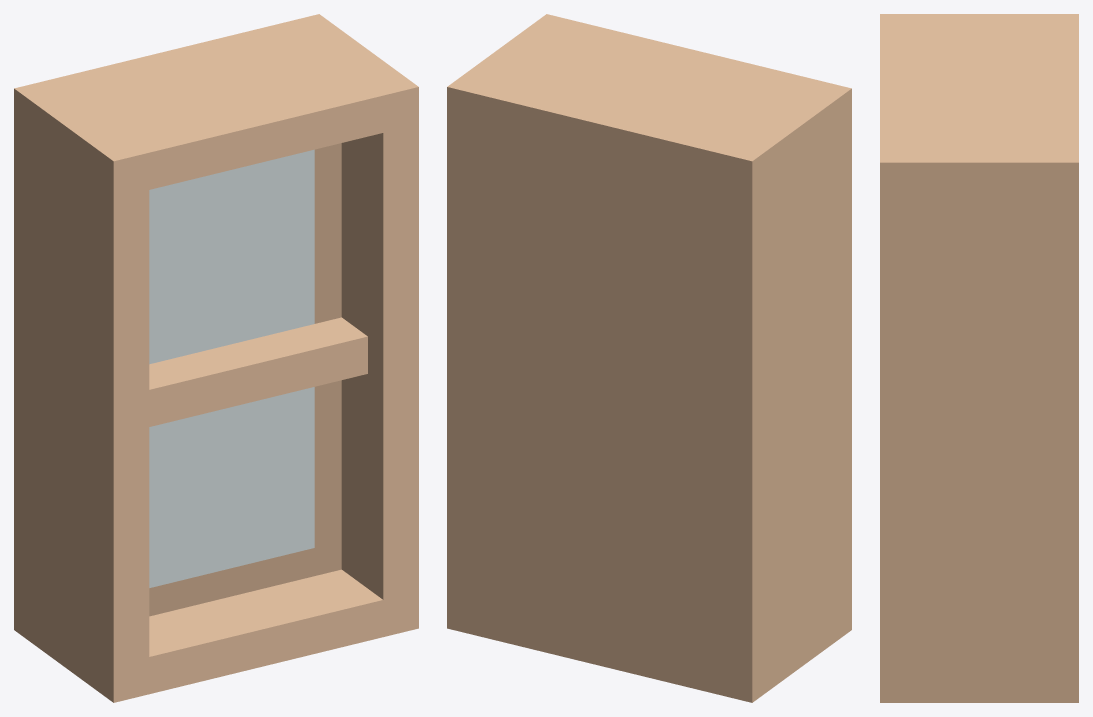
File: bathroomCabinet.glb
The picture shows the model from 3 angles, left to right: view 1: azimuth 30°, elevation 25°; view 2: azimuth 150°, elevation 25°; view 3: azimuth 270°, elevation 25°; orthographic projection.
Parts seen in each view (by area): view 1: bathroomCabinet, bathroomCabinet.001; view 2: bathroomCabinet; view 3: bathroomCabinet.
Boxes of the visible parts, <box> form: bathroomCabinet: <box>14,14,418,702</box>; bathroomCabinet.001: <box>149,143,341,616</box>; bathroomCabinet: <box>447,14,851,702</box>; bathroomCabinet: <box>880,14,1078,702</box>.
Size of the model in its own units: 0.667 by 1.13 by 0.377.
